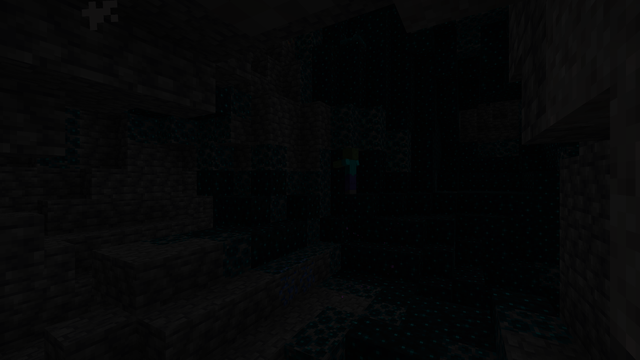zombies: (341, 148, 358, 193)
